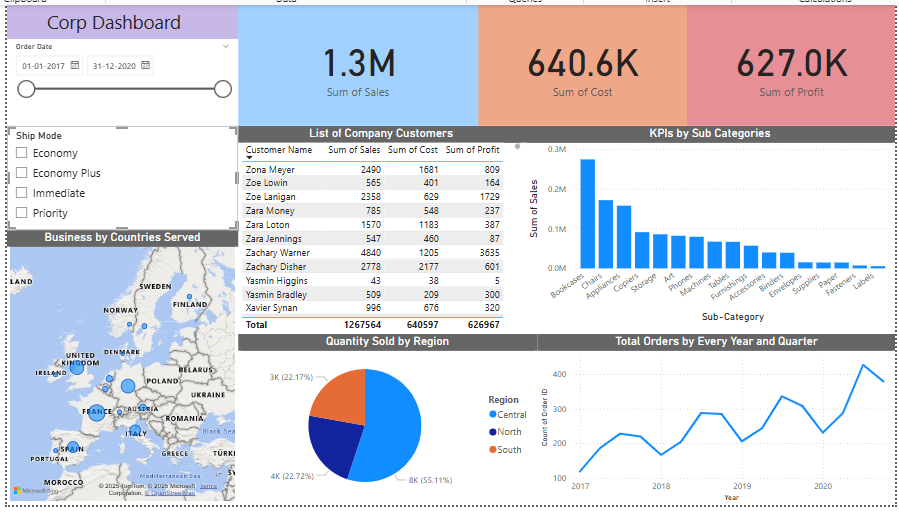

The page's visual inventory and layout, read from the dashboard file:
{"tool":"powerbi","page":{"name":"Page 1","canvas":[1280,720],"ordinal":0},"visuals":[{"type":"card","fields":{"Values":["List of Orders (2).Cost"]},"box":[678.2,0,301,174.2],"z":0},{"type":"card","fields":{"Values":["List of Orders (2).Profit"]},"box":[979.2,0,301,174.2],"z":1000},{"type":"tableEx","title":"List of Company Customers","fields":{"Values":["List of Orders (2).Customer Name","List of Orders (2).Sales","List of Orders (2).Cost","List of Orders (2).Profit"]},"box":[332.6,174.2,411.8,299.5],"z":2000},{"type":"clusteredColumnChart","title":"KPIs by Sub Categories","fields":{"Category":["List of Orders (2).Sub-Category"],"Y":["List of Orders (2).Sales"]},"box":[744.5,174.2,535.7,288],"z":3000},{"type":"card","fields":{"Values":["List of Orders (2).Sales"]},"box":[332.6,0,345.6,174.2],"z":4000},{"type":"lineChart","title":"Total Orders by Every Year and Quarter","fields":{"Y":["List of Orders (2).Order ID"],"Category":["List of Orders (2).Order Date.Variation.Date Hierarchy.Year","List of Orders (2).Order Date.Variation.Date Hierarchy.Quarter"]},"box":[763.2,473.8,517,246.2],"z":5000},{"type":"pieChart","title":"Quantity Sold by Region","fields":{"Y":["List of Orders (2).Quantity"],"Category":["List of Orders (2).Region"]},"box":[332.6,473.8,430.6,244.8],"z":6000},{"type":"map","title":"Business by Countries Served","fields":{"Category":["List of Orders (2).Country"],"Size":["List of Orders (2).Sales"]},"box":[0,324,332.6,394.6],"z":7000},{"type":"textbox","box":[0,0,332.6,49],"z":8000},{"type":"slicer","fields":{"Values":["List of Orders (2).Ship Mode"]},"box":[0,174.2,332.6,149.8],"z":9000},{"type":"slicer","fields":{"Values":["List of Orders (2).Order Date"]},"box":[0,49,332.6,125.3],"z":10000}]}

Visuals, with their boxes in screenshot pixels (x1, y1, x2, y2), scaled from the page's 1280x720 canvas onto the 899x513 screenshot:
card - List of Orders (2).Cost: Rect(476, 0, 688, 124)
card - List of Orders (2).Profit: Rect(688, 0, 898, 124)
"List of Company Customers" tableEx: Rect(234, 124, 523, 338)
"KPIs by Sub Categories" clusteredColumnChart: Rect(523, 124, 898, 329)
card - List of Orders (2).Sales: Rect(234, 0, 476, 124)
"Total Orders by Every Year and Quarter" lineChart: Rect(536, 338, 898, 512)
"Quantity Sold by Region" pieChart: Rect(234, 338, 536, 512)
"Business by Countries Served" map: Rect(0, 231, 234, 512)
textbox: Rect(0, 0, 234, 35)
slicer - List of Orders (2).Ship Mode: Rect(0, 124, 234, 231)
slicer - List of Orders (2).Order Date: Rect(0, 35, 234, 124)
